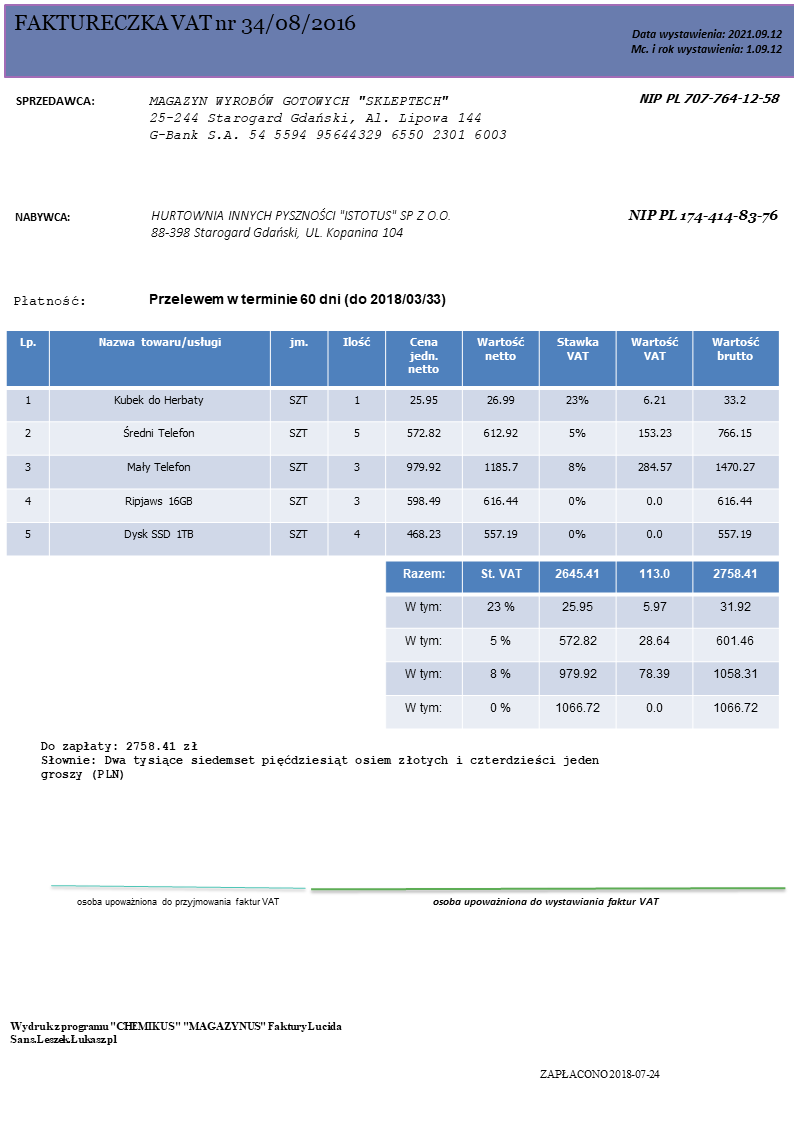Table: (4, 329, 781, 557), (382, 562, 780, 729)
TextBox: (38, 738, 601, 784), (146, 91, 508, 143), (149, 207, 453, 241), (7, 1019, 346, 1049), (12, 10, 360, 39), (147, 290, 447, 310), (627, 25, 785, 58), (625, 205, 780, 229), (430, 894, 662, 910), (74, 894, 281, 909), (637, 88, 782, 108), (535, 1065, 661, 1084), (10, 292, 86, 309), (12, 93, 96, 108), (12, 210, 71, 225)
